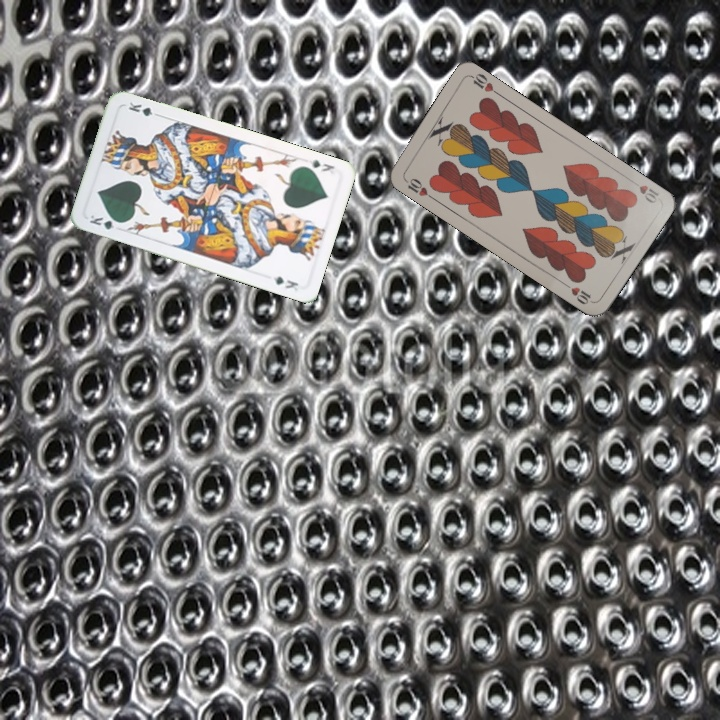GK: (85, 211, 125, 232), (305, 155, 337, 175)
H10: (626, 176, 662, 206), (400, 174, 437, 202)
